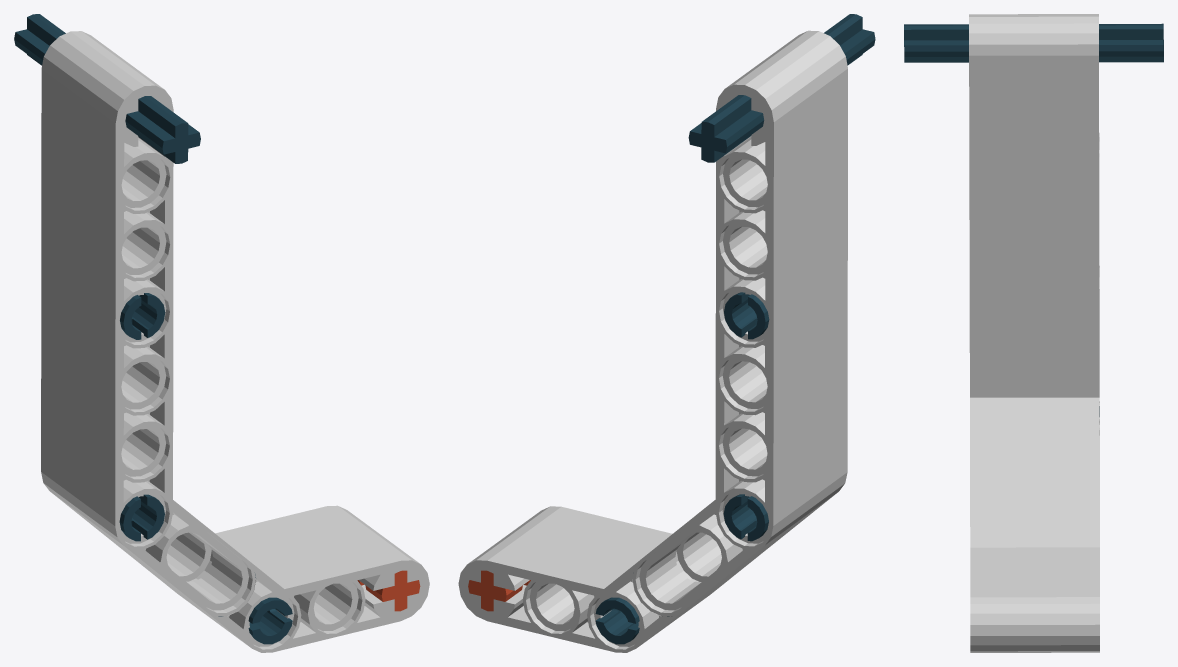
Rendered from hackev_tail.dae.
The picture shows the model from 3 angles, left to right: view 1: azimuth 30°, elevation 25°; view 2: azimuth 150°, elevation 25°; view 3: azimuth 270°, elevation 25°; orthographic projection. The views are drawn at different scales.
Visible parts, largest first — view 1: Piece064, Piece060, Piece058, Piece063, Piece061, Piece062, Piece059; view 2: Piece060, Piece064, Piece058, Piece063, Piece061, Piece062, Piece059; view 3: Piece060, Piece064, Piece058.
Part boxes in pixels (x1=…): Piece064: x1=78, y1=58, x2=429, y2=652; Piece060: x1=41, y1=31, x2=383, y2=619; Piece058: x1=14, y1=14, x2=200, y2=163; Piece063: x1=218, y1=574, x2=292, y2=644; Piece061: x1=119, y1=494, x2=164, y2=541; Piece062: x1=120, y1=293, x2=165, y2=339; Piece059: x1=357, y1=570, x2=420, y2=611; Piece060: x1=458, y1=57, x2=810, y2=652; Piece064: x1=505, y1=30, x2=847, y2=619; Piece058: x1=688, y1=14, x2=875, y2=162; Piece063: x1=595, y1=597, x2=669, y2=644; Piece061: x1=723, y1=494, x2=768, y2=541; Piece062: x1=724, y1=292, x2=769, y2=339; Piece059: x1=468, y1=570, x2=530, y2=611; Piece060: x1=1034, y1=14, x2=1099, y2=652; Piece064: x1=969, y1=14, x2=1035, y2=652; Piece058: x1=904, y1=23, x2=1163, y2=62.
Bounding box in the file's own units: 0.0392 × 0.032 × 0.0712.
